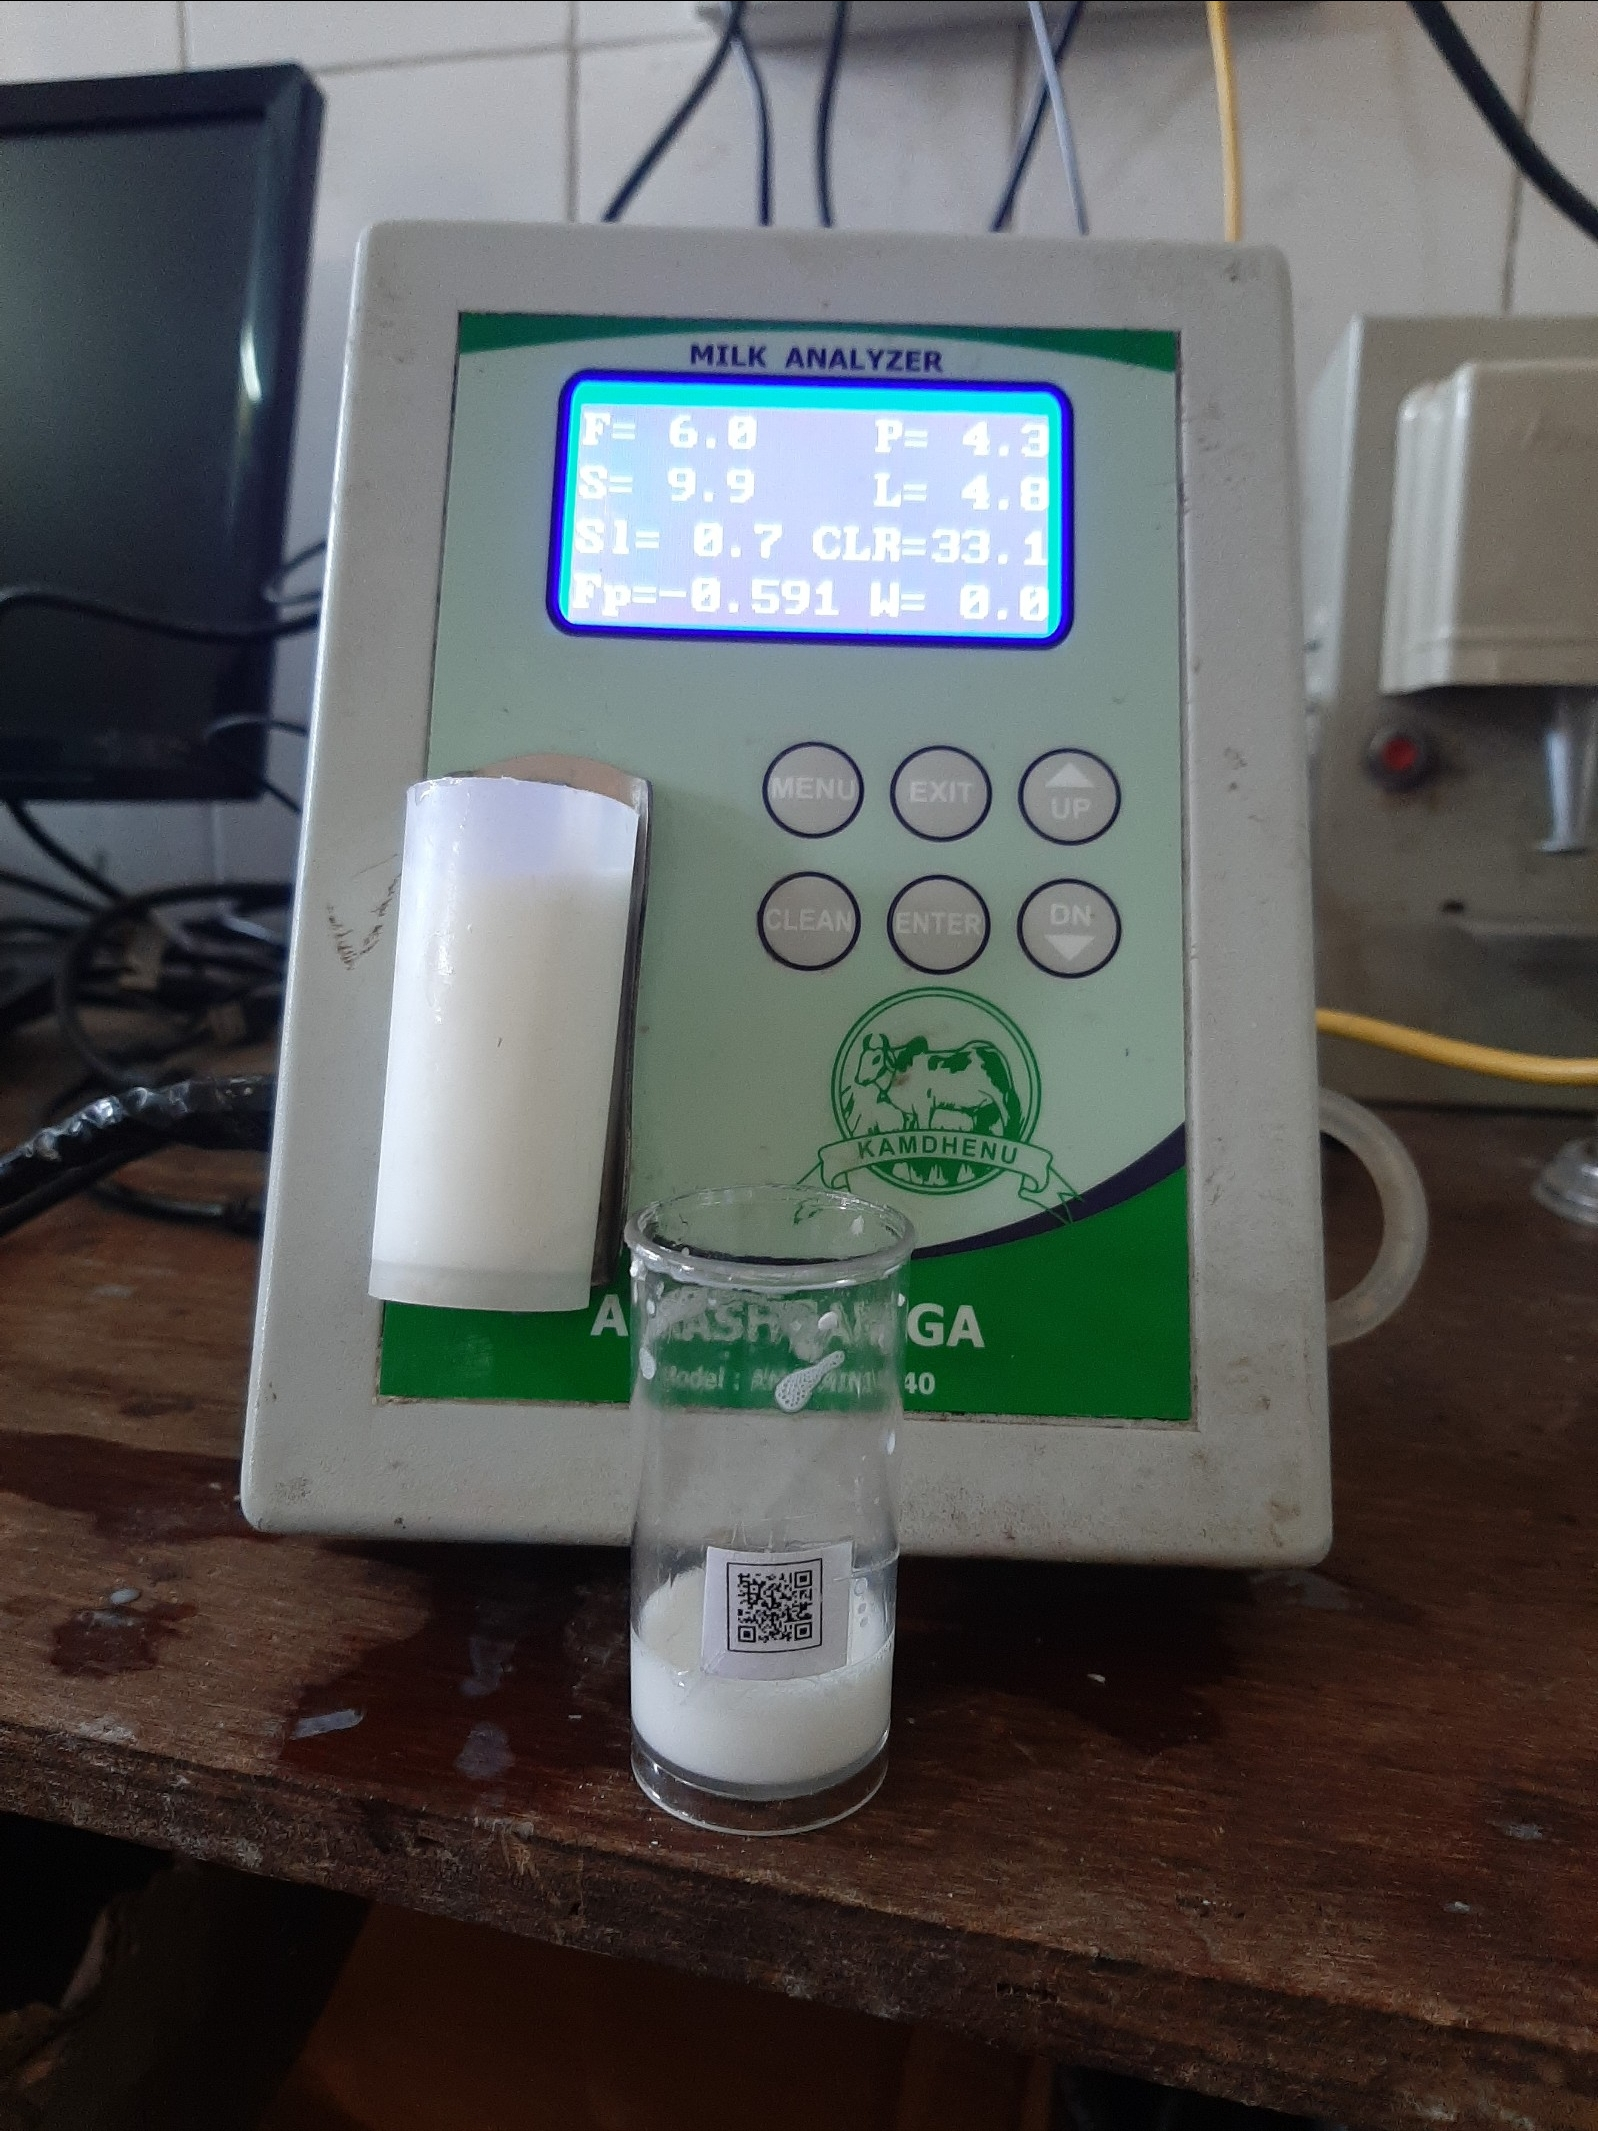lcd: (546, 367, 1079, 681)
qr: (697, 1555, 864, 1671)
